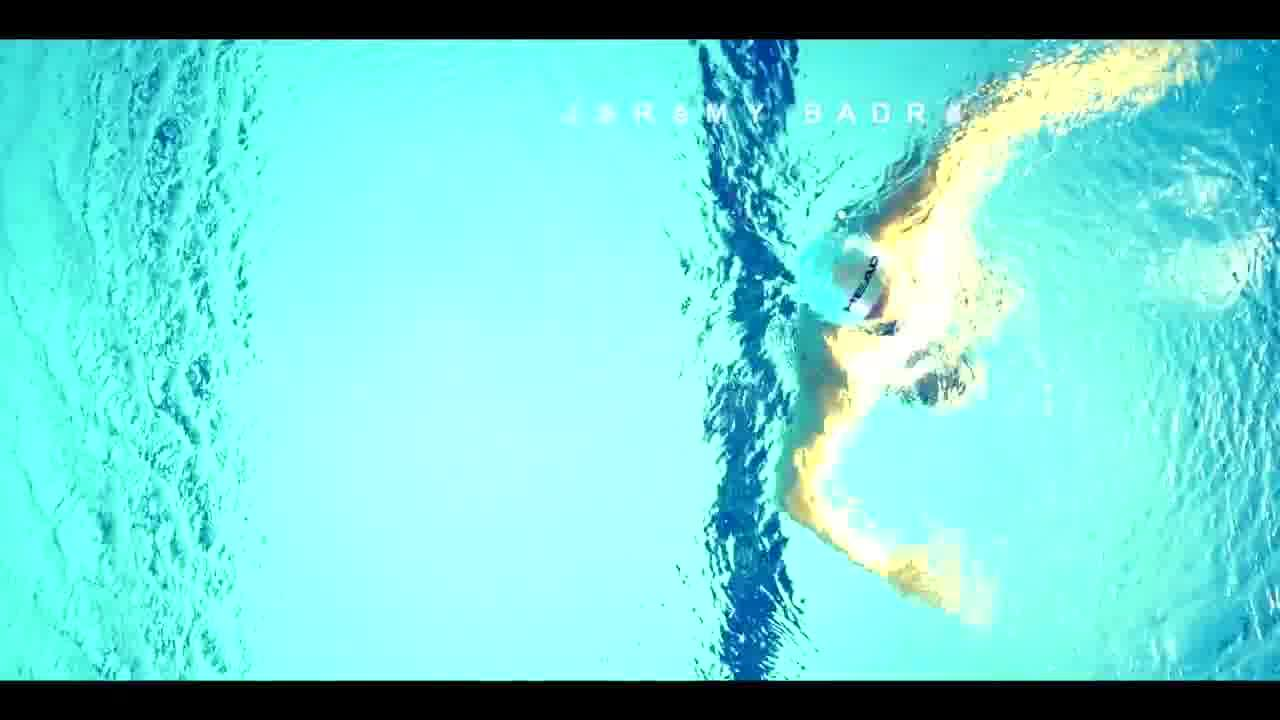human: (710, 61, 1130, 607)
